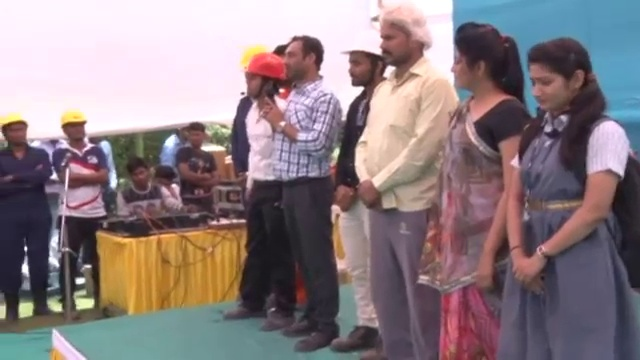helmet: (238, 47, 291, 80), (342, 23, 384, 57), (58, 108, 88, 128), (0, 109, 30, 129)
helmet_off: (522, 34, 601, 122), (448, 23, 518, 99), (373, 7, 437, 64), (276, 35, 329, 84), (122, 153, 150, 188), (179, 123, 206, 151), (153, 164, 176, 192)
helmet_on: (235, 53, 292, 112), (340, 20, 385, 91), (0, 109, 31, 148), (58, 108, 88, 148)
person: (507, 26, 640, 360), (429, 25, 536, 360), (351, 0, 444, 359), (259, 35, 345, 350), (222, 47, 294, 327), (331, 18, 387, 356), (42, 104, 109, 329), (0, 109, 55, 339), (113, 154, 172, 227), (175, 123, 220, 210)
